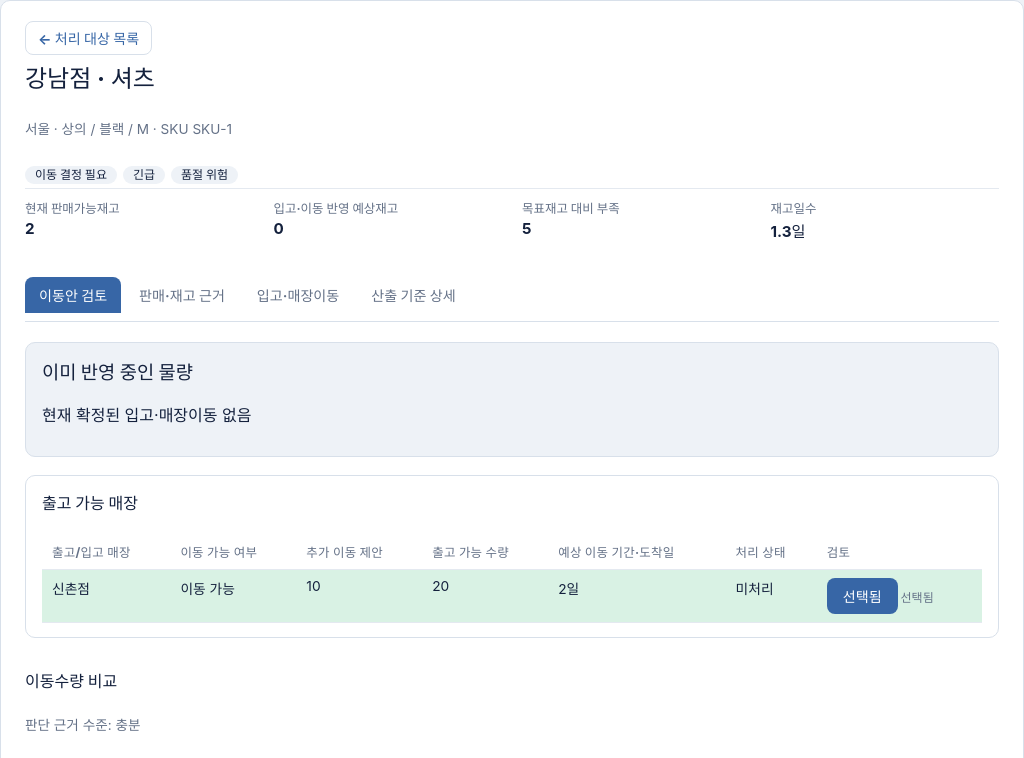
Scenario: ExceptionDetail 입고·매장이동 tab › shows empty-state text instead of a bare dash for each of the three sections
Click the tab "입고·매장이동": click(298, 294) [243, 276, 353, 312]
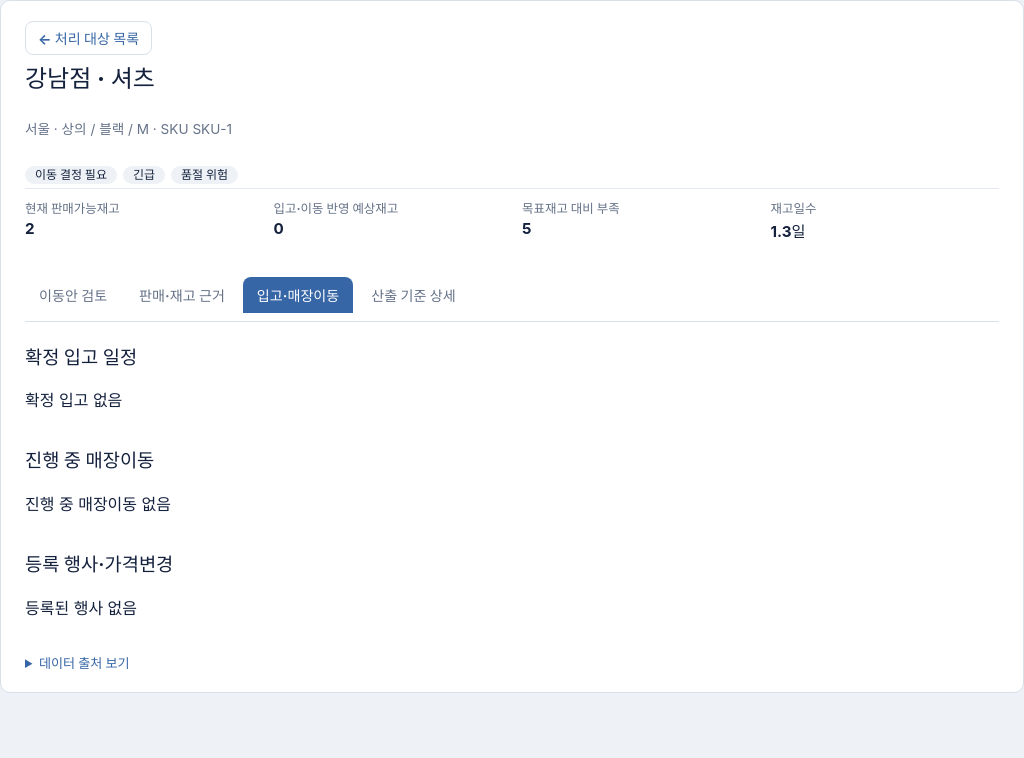
Expected: the text "확정 입고 없음" is shown, [25, 390, 122, 410]
Expected: the text "진행 중 매장이동 없음" is shown, [25, 494, 171, 514]
Expected: the text "등록된 행사 없음" is shown, [25, 598, 137, 618]
